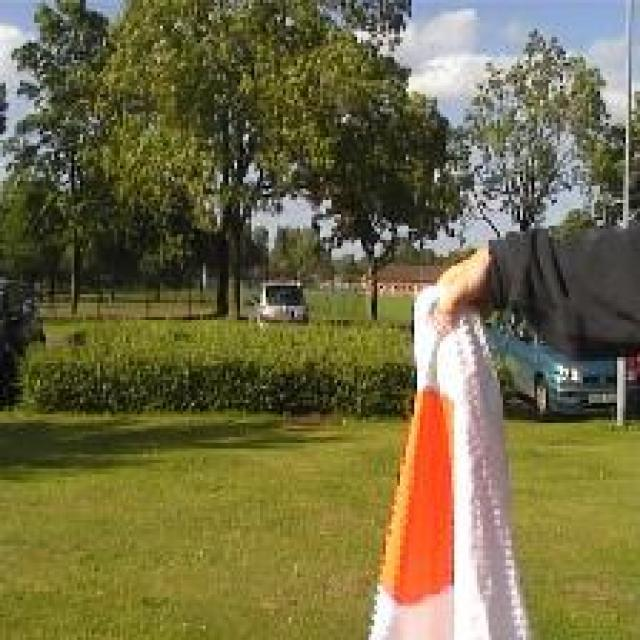other: (357, 368, 473, 614)
